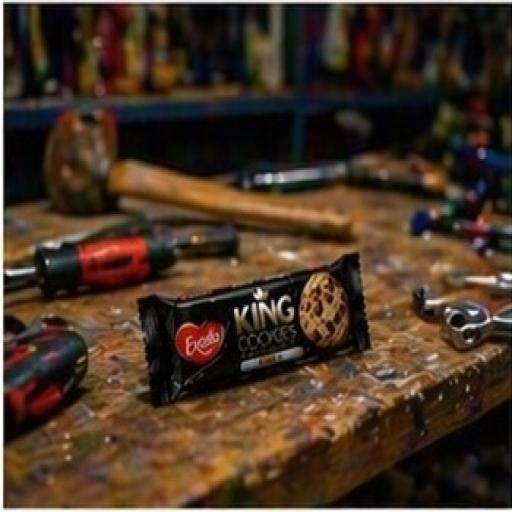king-cooking: (106, 222, 391, 420)
